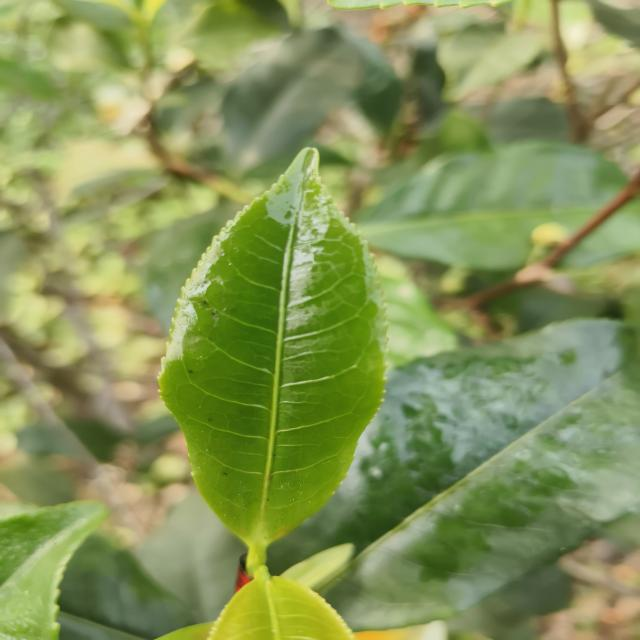Leaf: (271, 320, 640, 631), (159, 149, 385, 559), (356, 141, 626, 271), (222, 27, 364, 171), (0, 501, 107, 640), (58, 533, 195, 640), (160, 565, 353, 640), (437, 24, 542, 100), (568, 198, 640, 266)
